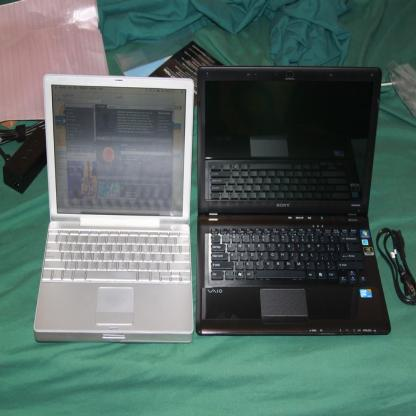board: (197, 67, 392, 336), (33, 72, 195, 343)
